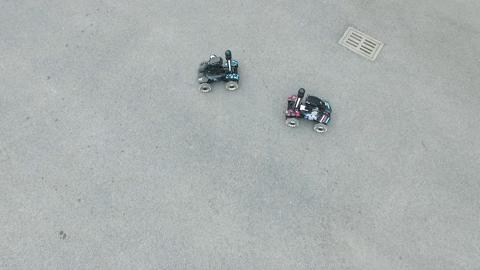chariot: (191, 47, 244, 100), (283, 85, 333, 138)
